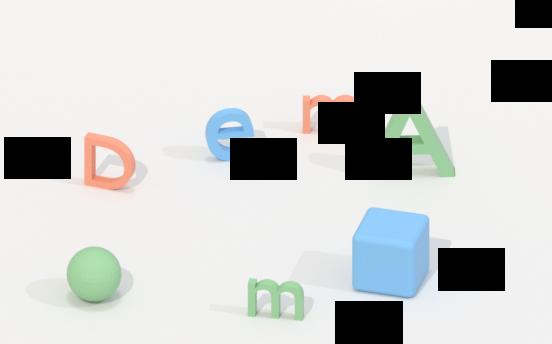A-hoa: (362, 85, 459, 184)
cau: (66, 244, 124, 306)
d: (79, 128, 140, 196)
e: (203, 105, 257, 163)
hop: (350, 202, 433, 301)
m: (245, 276, 307, 325), (299, 91, 360, 138)
